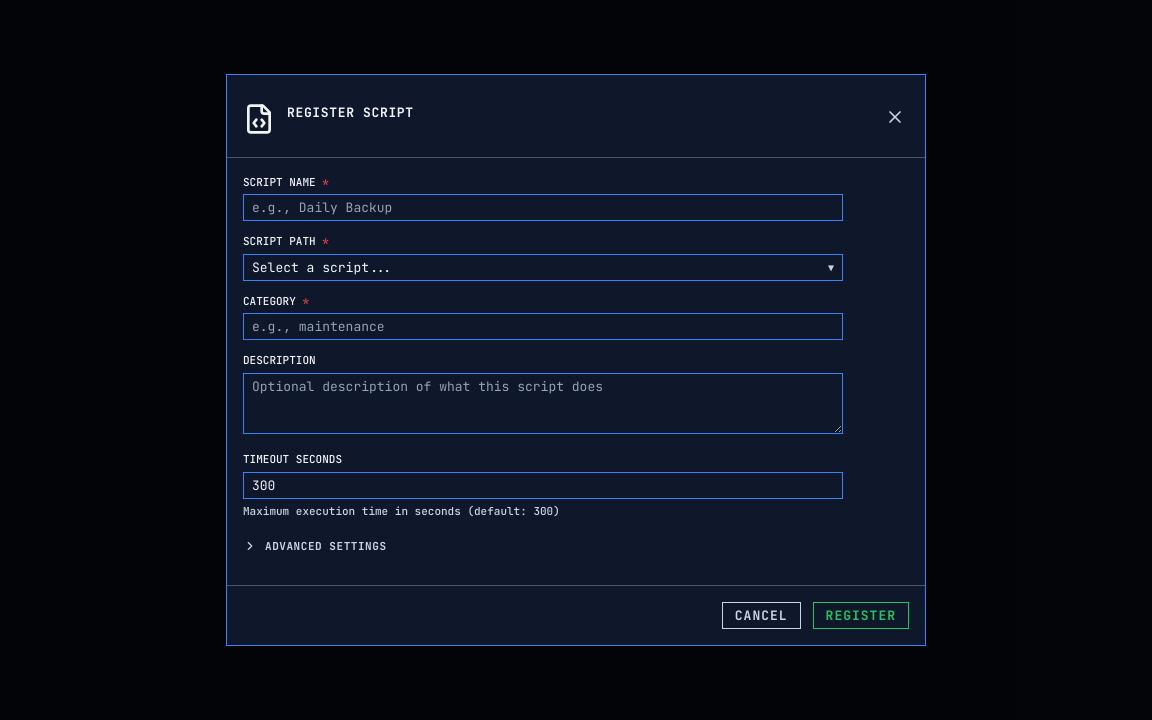
Test: RegisterScriptModal › Script Type Detection › should auto-detect shell script type
The image size is (1152, 720).
Check: the text "SCRIPT PATH *" is shown, box 243,234 -> 329,248
Click the button with class "custom-dropdown-toggle" at coordinates (322, 267), box 243,254 -> 843,280
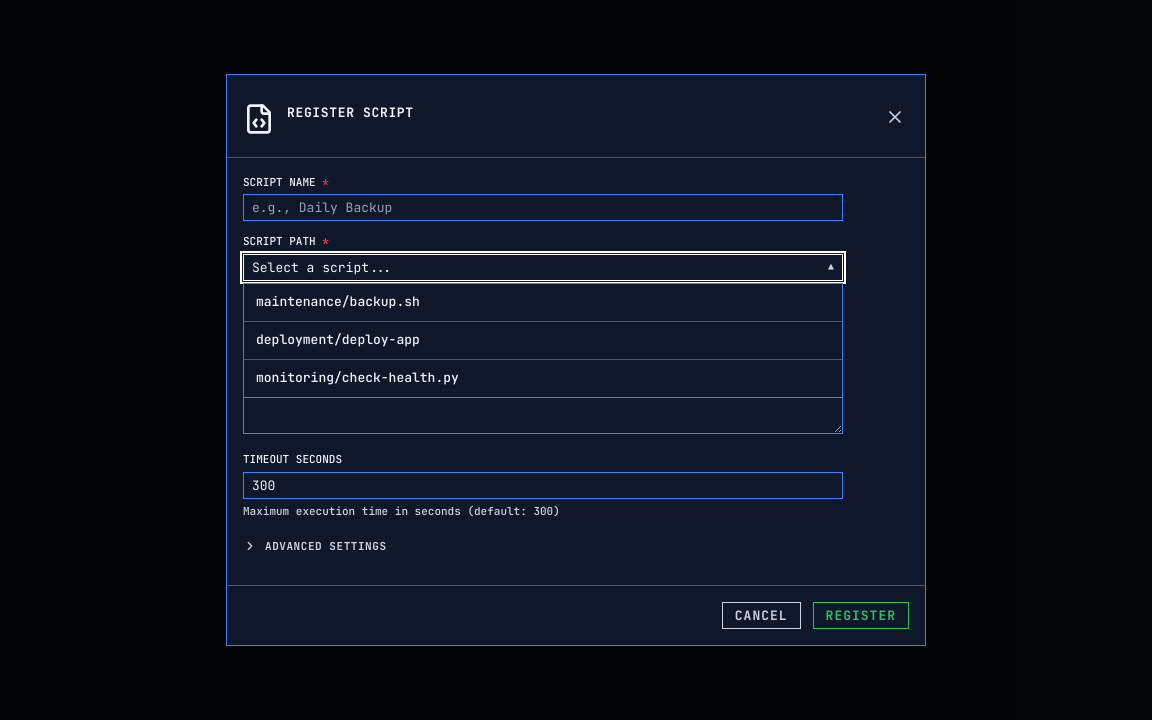
Click the text "maintenance/backup.sh" at coordinates (338, 302), box 256,292 -> 420,312
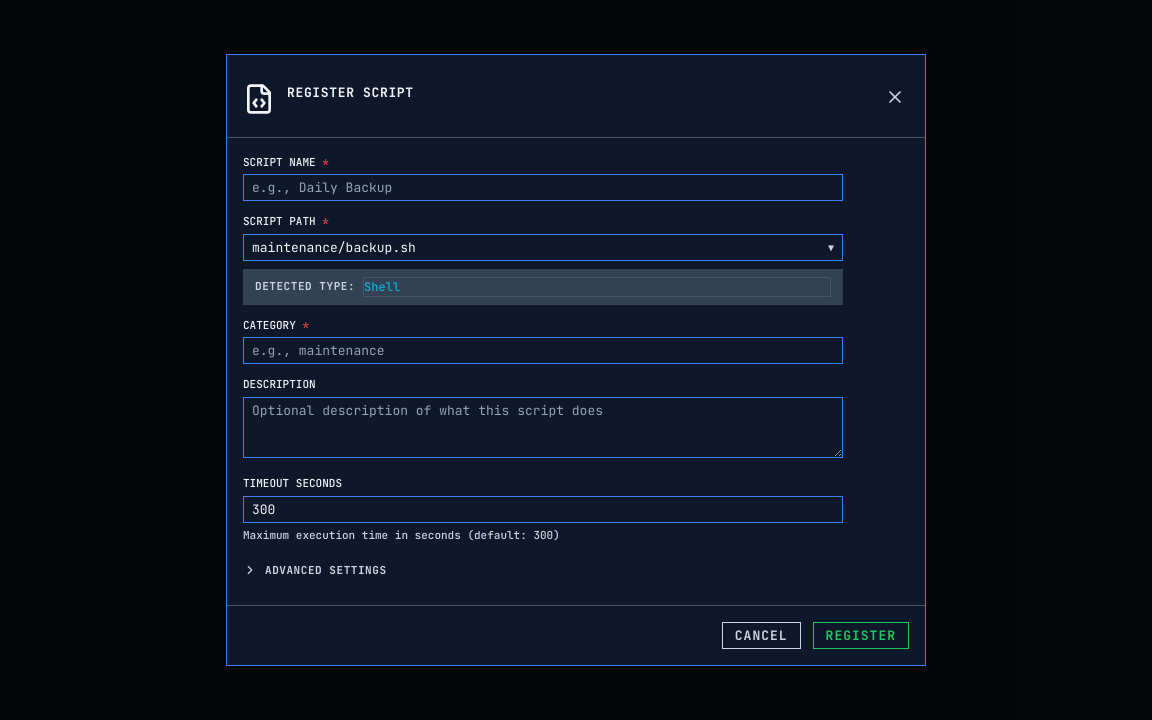
Check: the text "Shell" is shown, box 363,276 -> 831,296
